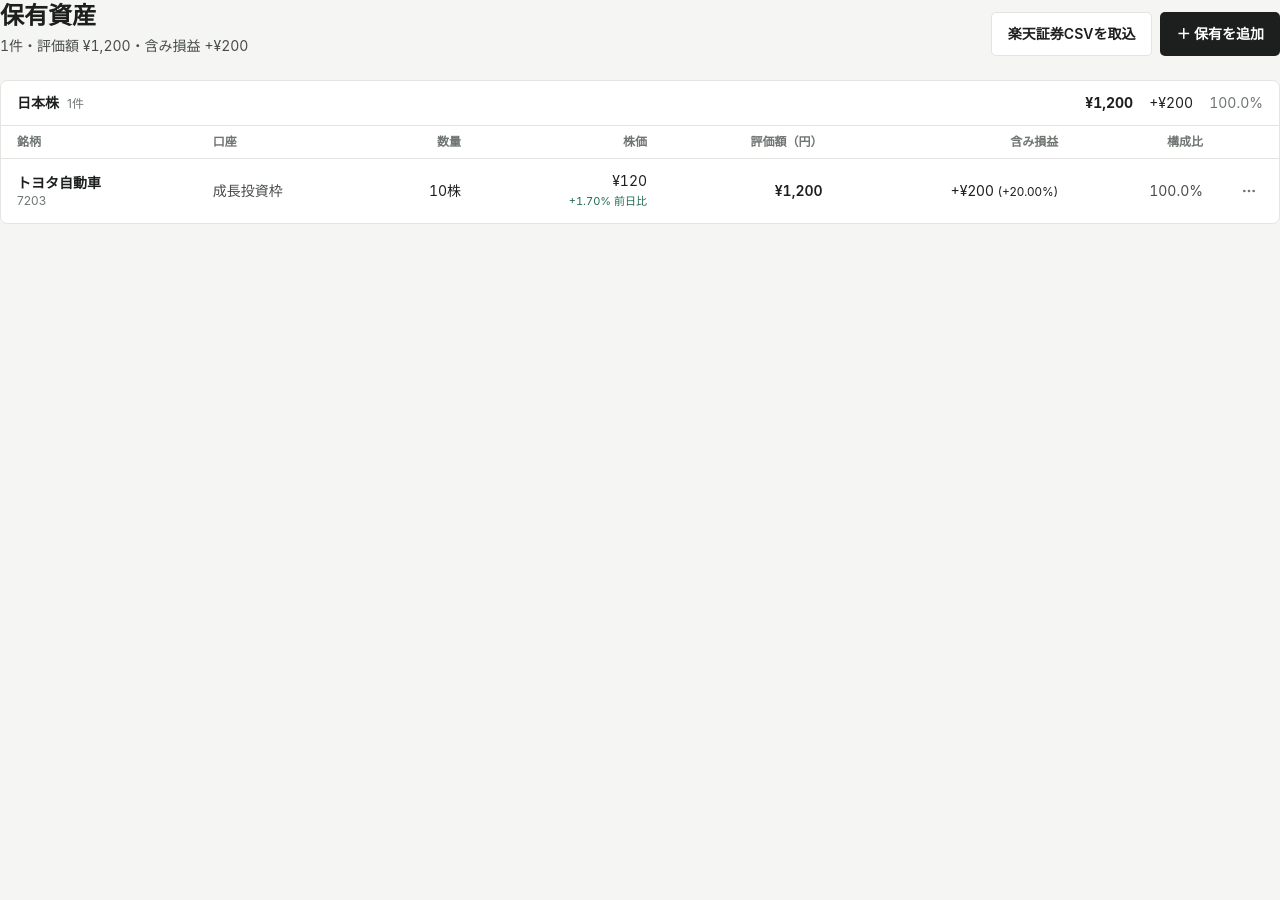
Test case: PortfolioDashboard (Phase 2) › titles the page with the nav name and keeps the add form behind a button (Phase 1)
Expected: the heading "保有資産" is shown, [0, 1, 96, 30]
Expected: the field labelled "保有数量" is not shown
Click the button "＋ 保有を追加". click: [1220, 34]
box: [1160, 12, 1279, 56]
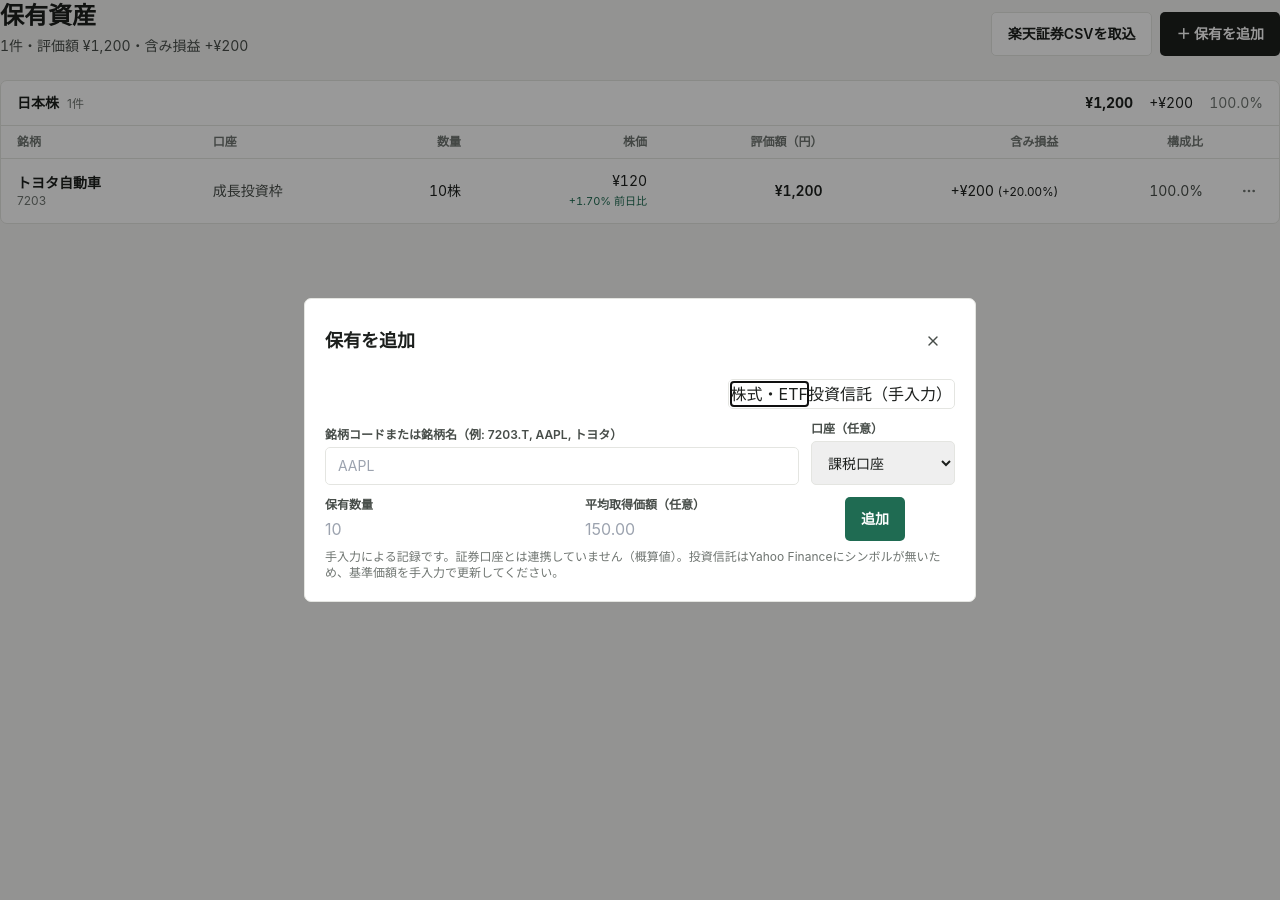
Result: the dialog "保有を追加" is shown at [304, 298, 976, 602]
Result: the number field labelled "保有数量" is shown at [325, 517, 573, 541]
Press Escape
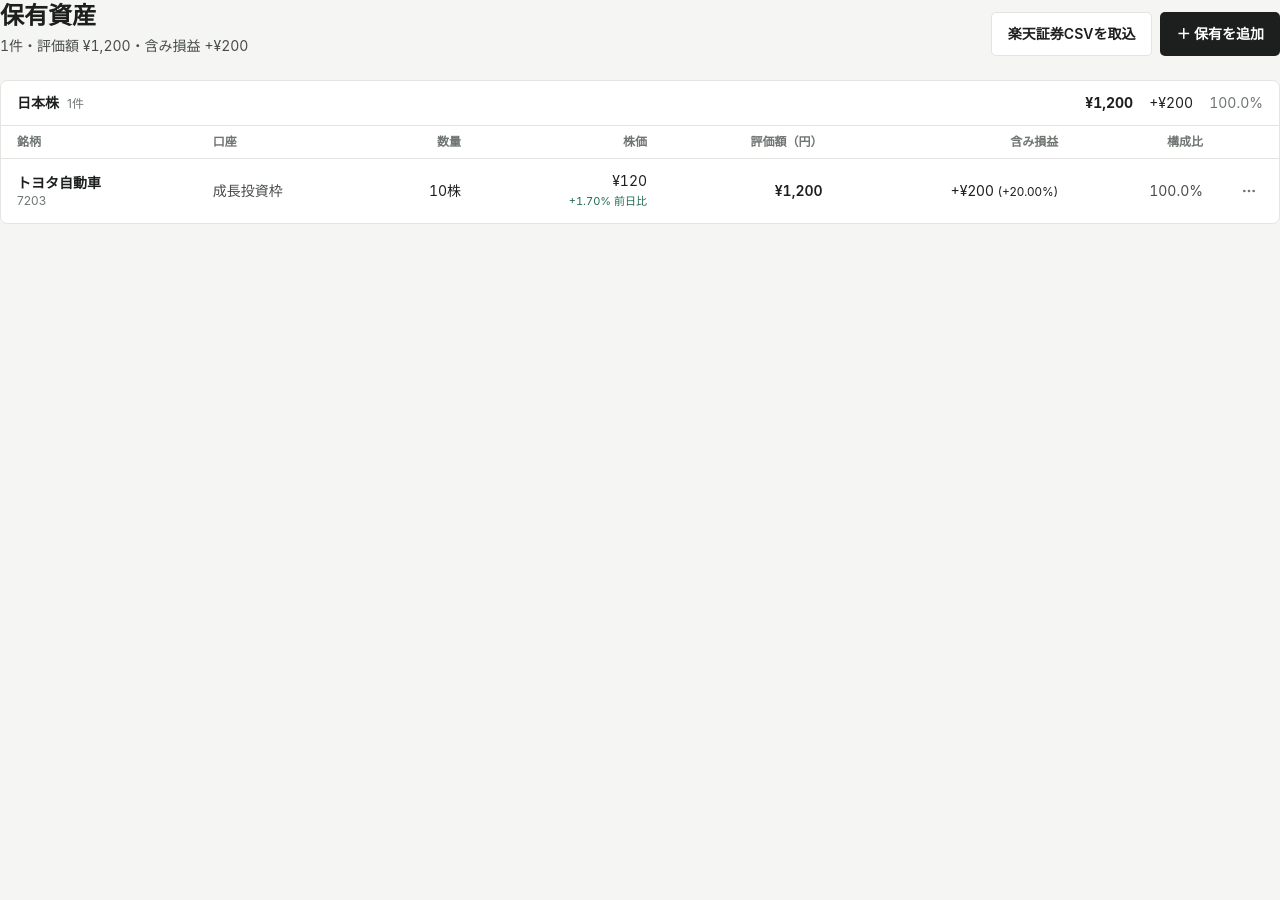
Result: the dialog is gone
